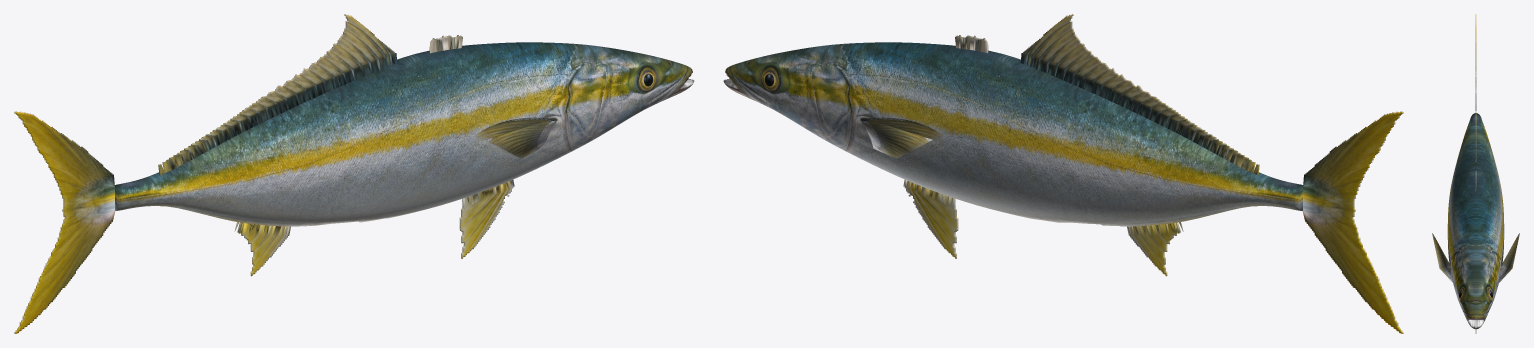
The model's file is yellowtail.glb.
3 renders of one model, left to right at view 1: azimuth 30°, elevation 25°; view 2: azimuth 150°, elevation 25°; view 3: azimuth 270°, elevation 25°, orthographic. The views are drawn at different scales.
Visible parts, largest first — view 1: yellowtail_realistic; view 2: yellowtail_realistic; view 3: yellowtail_realistic.
Part boxes in pixels (bbox=[...]): yellowtail_realistic: bbox=[14, 14, 694, 333]; yellowtail_realistic: bbox=[723, 14, 1403, 333]; yellowtail_realistic: bbox=[1432, 14, 1519, 333].
Bounding box in the file's own units: 1 × 0.3838 × 0.166.
Materials: 3 (3 with a texture image).
